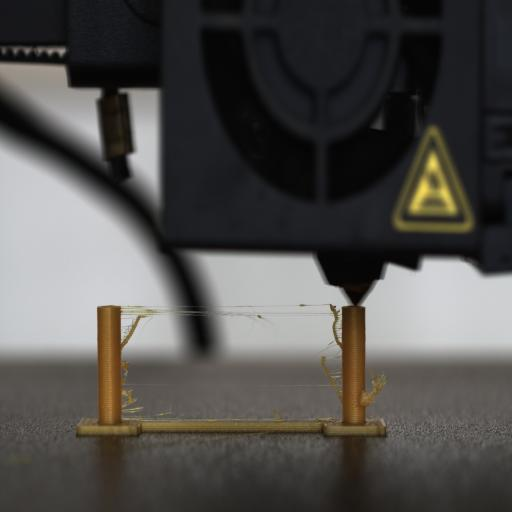stringing: (119, 298, 343, 324)
